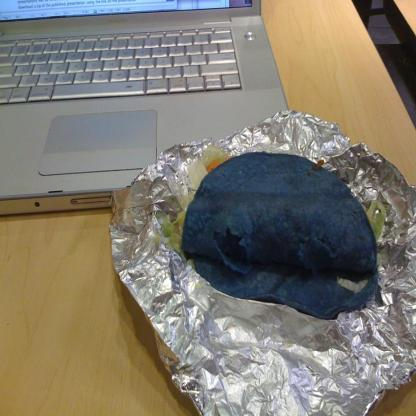board: (0, 0, 288, 217)
